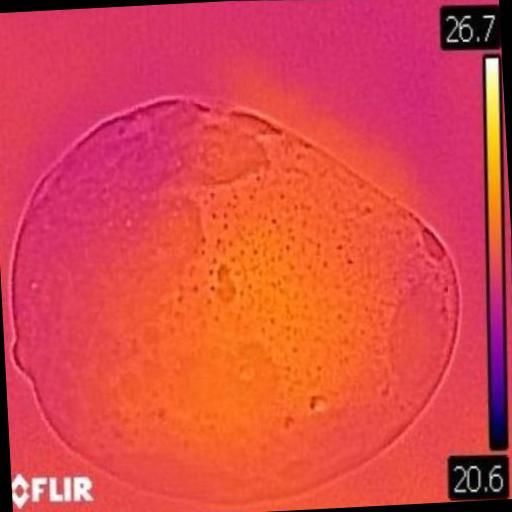alphanso: (11, 99, 457, 504), (190, 251, 191, 252), (286, 246, 286, 247)
